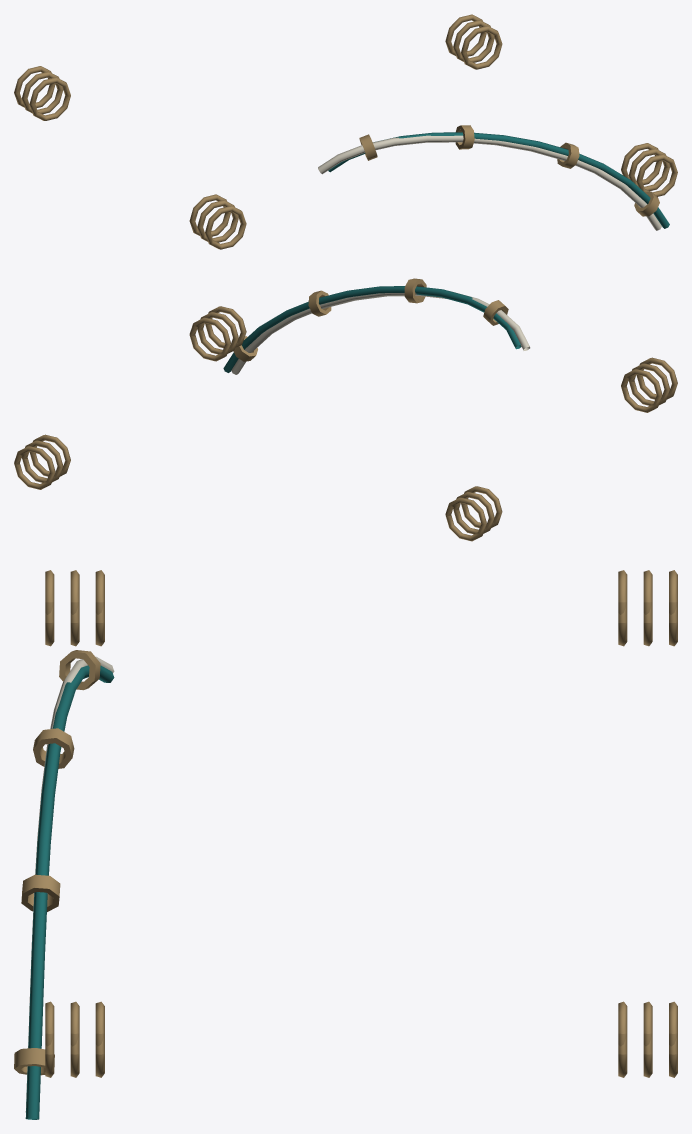
File: k1_harness.obj
3 views of the same model, one above another, from view 1: azimuth 30°, elevation 25°; view 2: azimuth 150°, elevation 25°; view 3: azimuth 270°, elevation 25° (orthographic). The views are drawn at different scales.
Parts seen in each view (by area): view 1: k1_harness; view 2: k1_harness; view 3: k1_harness.
Part boxes in pixels (x1,y1,x2,y2): k1_harness: (14, 14, 677, 249); k1_harness: (14, 278, 677, 541); k1_harness: (14, 570, 677, 1119).
Size of the model in its own units: 1.06 by 0.3205 by 0.7879.
